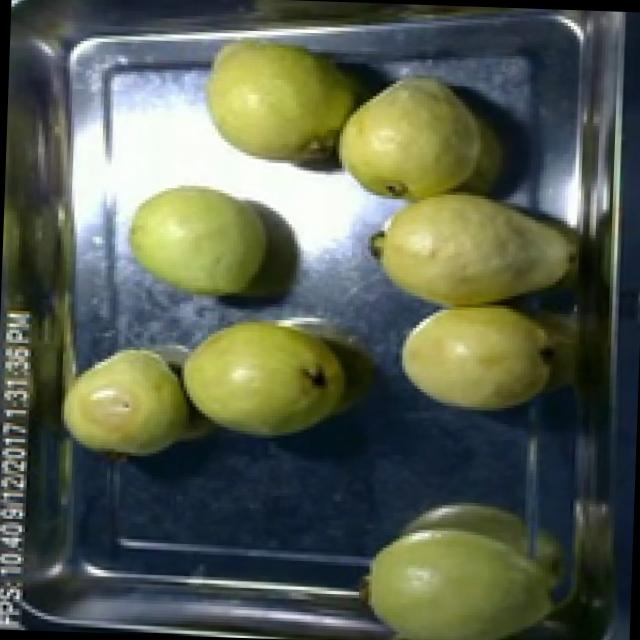Fruit: (350, 487, 589, 640), (184, 11, 386, 181), (352, 173, 584, 320), (168, 302, 359, 449), (324, 58, 502, 208), (113, 166, 290, 303), (390, 300, 560, 421), (52, 330, 198, 466)
